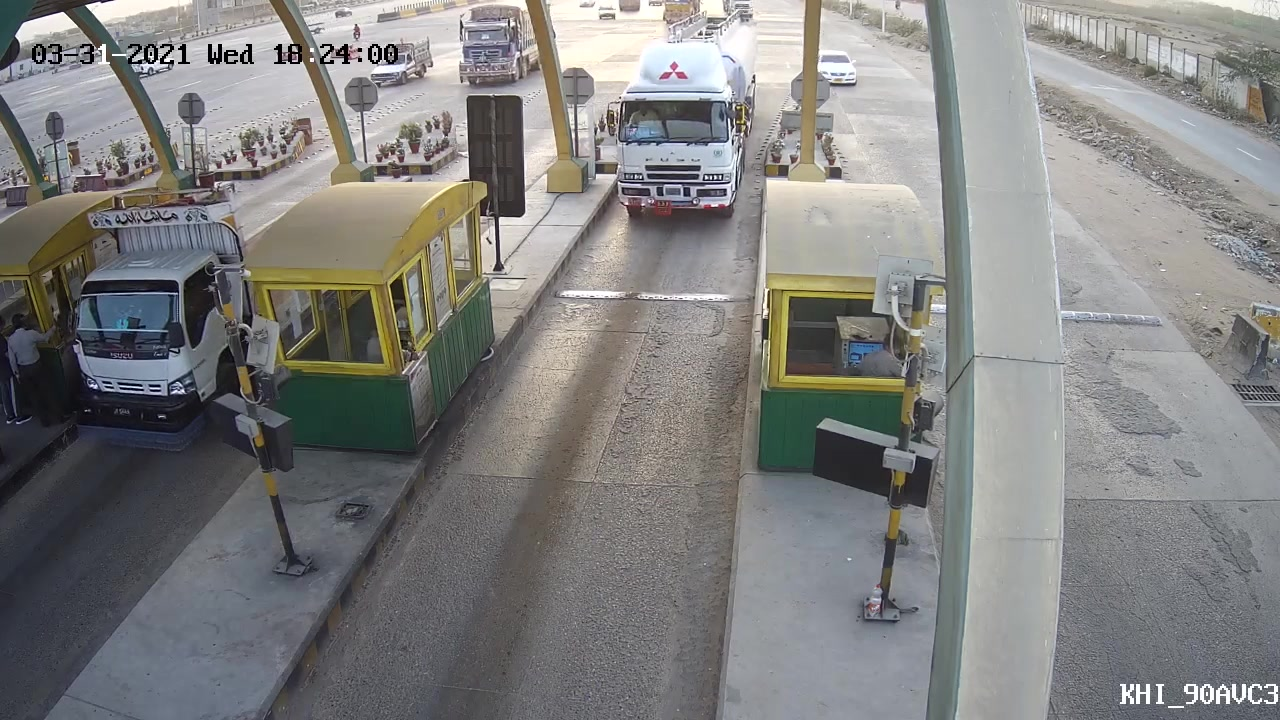F6: (596, 35, 765, 235)
